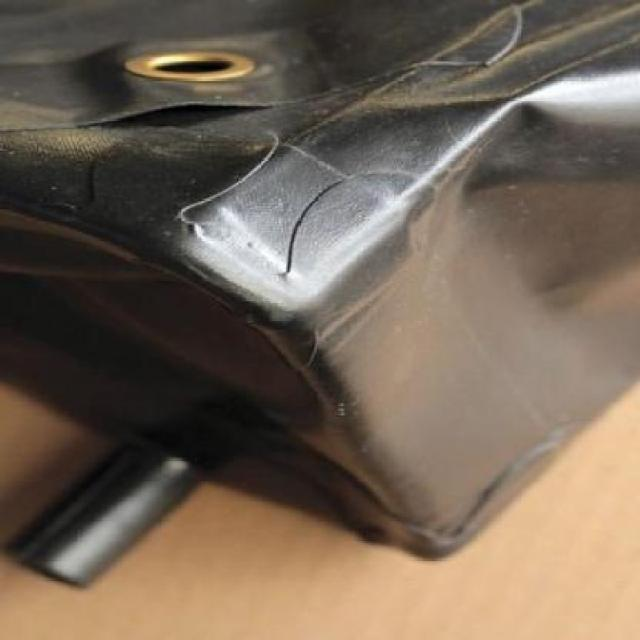crack: (283, 185, 357, 301)
